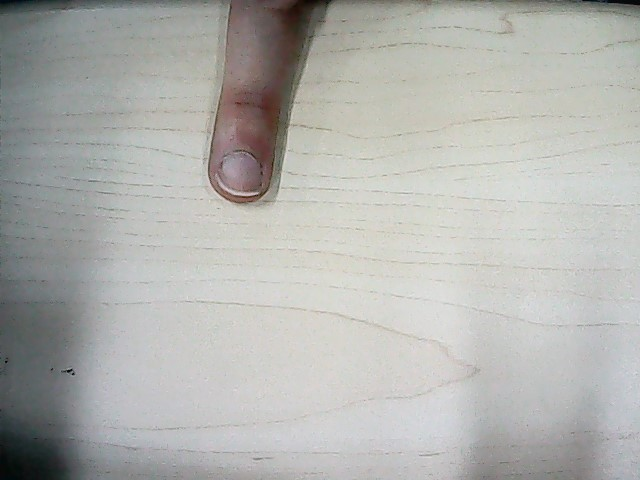nail: (217, 150, 265, 200)
